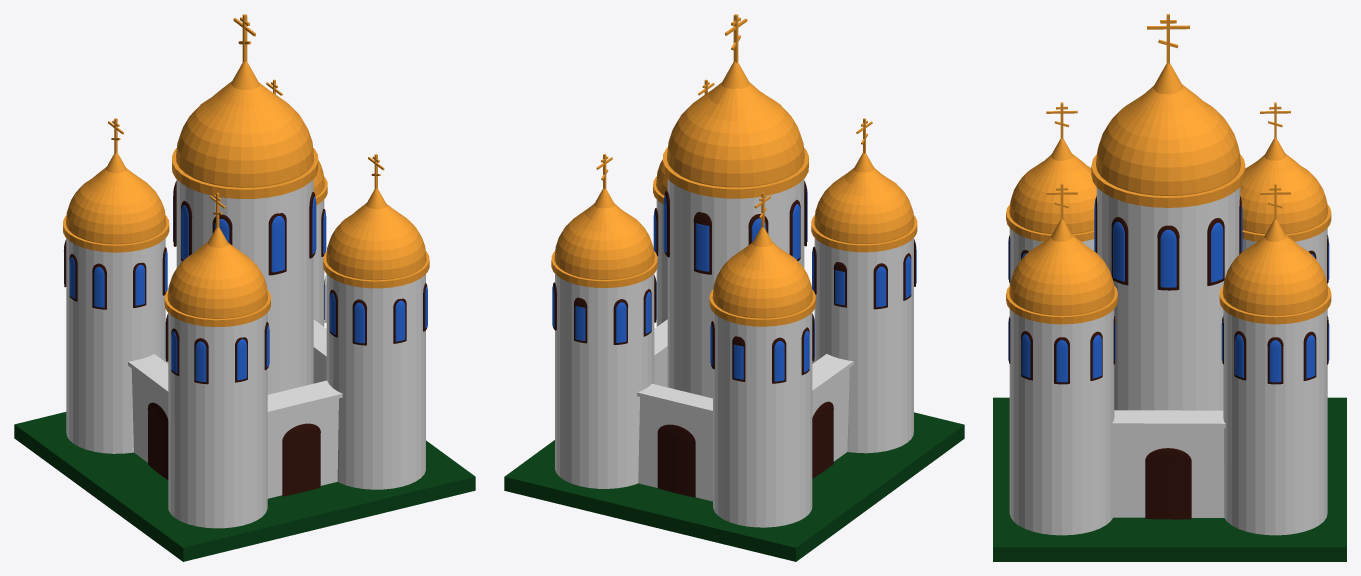
The model's file is church.fbx.
3 renders of one model, left to right at view 1: azimuth 30°, elevation 25°; view 2: azimuth 150°, elevation 25°; view 3: azimuth 270°, elevation 25°, orthographic. The views are drawn at different scales.
Visible parts, largest first — view 1: Цилиндр.036, Куб.020, Цилиндр.037, Цилиндр.073, Цилиндр.001, Сфера, Сфера.032, Сфера.064, Сфера.031, Куб.021, Цилиндр.095, Цилиндр.014 (+9 smaller); view 2: Цилиндр.073, Куб.020, Цилиндр.072, Цилиндр.036, Цилиндр.001, Сфера, Сфера.064, Сфера.063, Сфера.031, Куб.022, Цилиндр.092, Цилиндр.014 (+9 smaller); view 3: Цилиндр.001, Цилиндр.037, Цилиндр.072, Куб.020, Сфера, Куб.023, Сфера.063, Сфера.032, Сфера.064, Сфера.031, Цилиндр.091, Цилиндр.014 (+13 smaller).
Part boxes in pixels (<box>): Цилиндр.036: <box>168,313,267,528</box>; Куб.020: <box>14,412,475,561</box>; Цилиндр.037: <box>326,274,425,489</box>; Цилиндр.073: <box>66,238,165,453</box>; Цилиндр.001: <box>176,179,313,394</box>; Сфера: <box>176,81,314,187</box>; Сфера.032: <box>326,203,426,280</box>; Сфера.064: <box>66,167,166,244</box>; Сфера.031: <box>167,242,267,318</box>; Куб.021: <box>267,398,338,498</box>; Цилиндр.095: <box>282,434,320,496</box>; Цилиндр.014: <box>172,147,318,198</box>; Цилиндр.073: <box>713,312,812,527</box>; Куб.020: <box>504,412,964,561</box>; Цилиндр.072: <box>555,274,654,488</box>; Цилиндр.036: <box>814,238,913,453</box>; Цилиндр.001: <box>667,179,804,398</box>; Сфера: <box>667,82,804,187</box>; Сфера.064: <box>712,242,812,318</box>; Сфера.063: <box>554,203,654,279</box>; Сфера.031: <box>814,167,914,244</box>; Куб.022: <box>638,397,712,501</box>; Цилиндр.092: <box>657,435,695,497</box>; Цилиндр.014: <box>662,147,808,198</box>; Цилиндр.001: <box>1096,187,1240,410</box>; Цилиндр.037: <box>1009,309,1114,535</box>; Цилиндр.072: <box>1223,309,1327,535</box>; Куб.020: <box>993,397,1346,561</box>; Сфера: <box>1096,84,1240,196</box>; Куб.023: <box>1113,428,1224,517</box>; Сфера.063: <box>1222,234,1327,315</box>; Сфера.032: <box>1009,235,1114,315</box>; Сфера.064: <box>1240,153,1328,234</box>; Сфера.031: <box>1009,153,1096,234</box>; Цилиндр.091: <box>1145,462,1191,519</box>; Цилиндр.014: <box>1091,154,1245,207</box>.
Bounding box in the file's own units: 5396 × 7942 × 5396.
